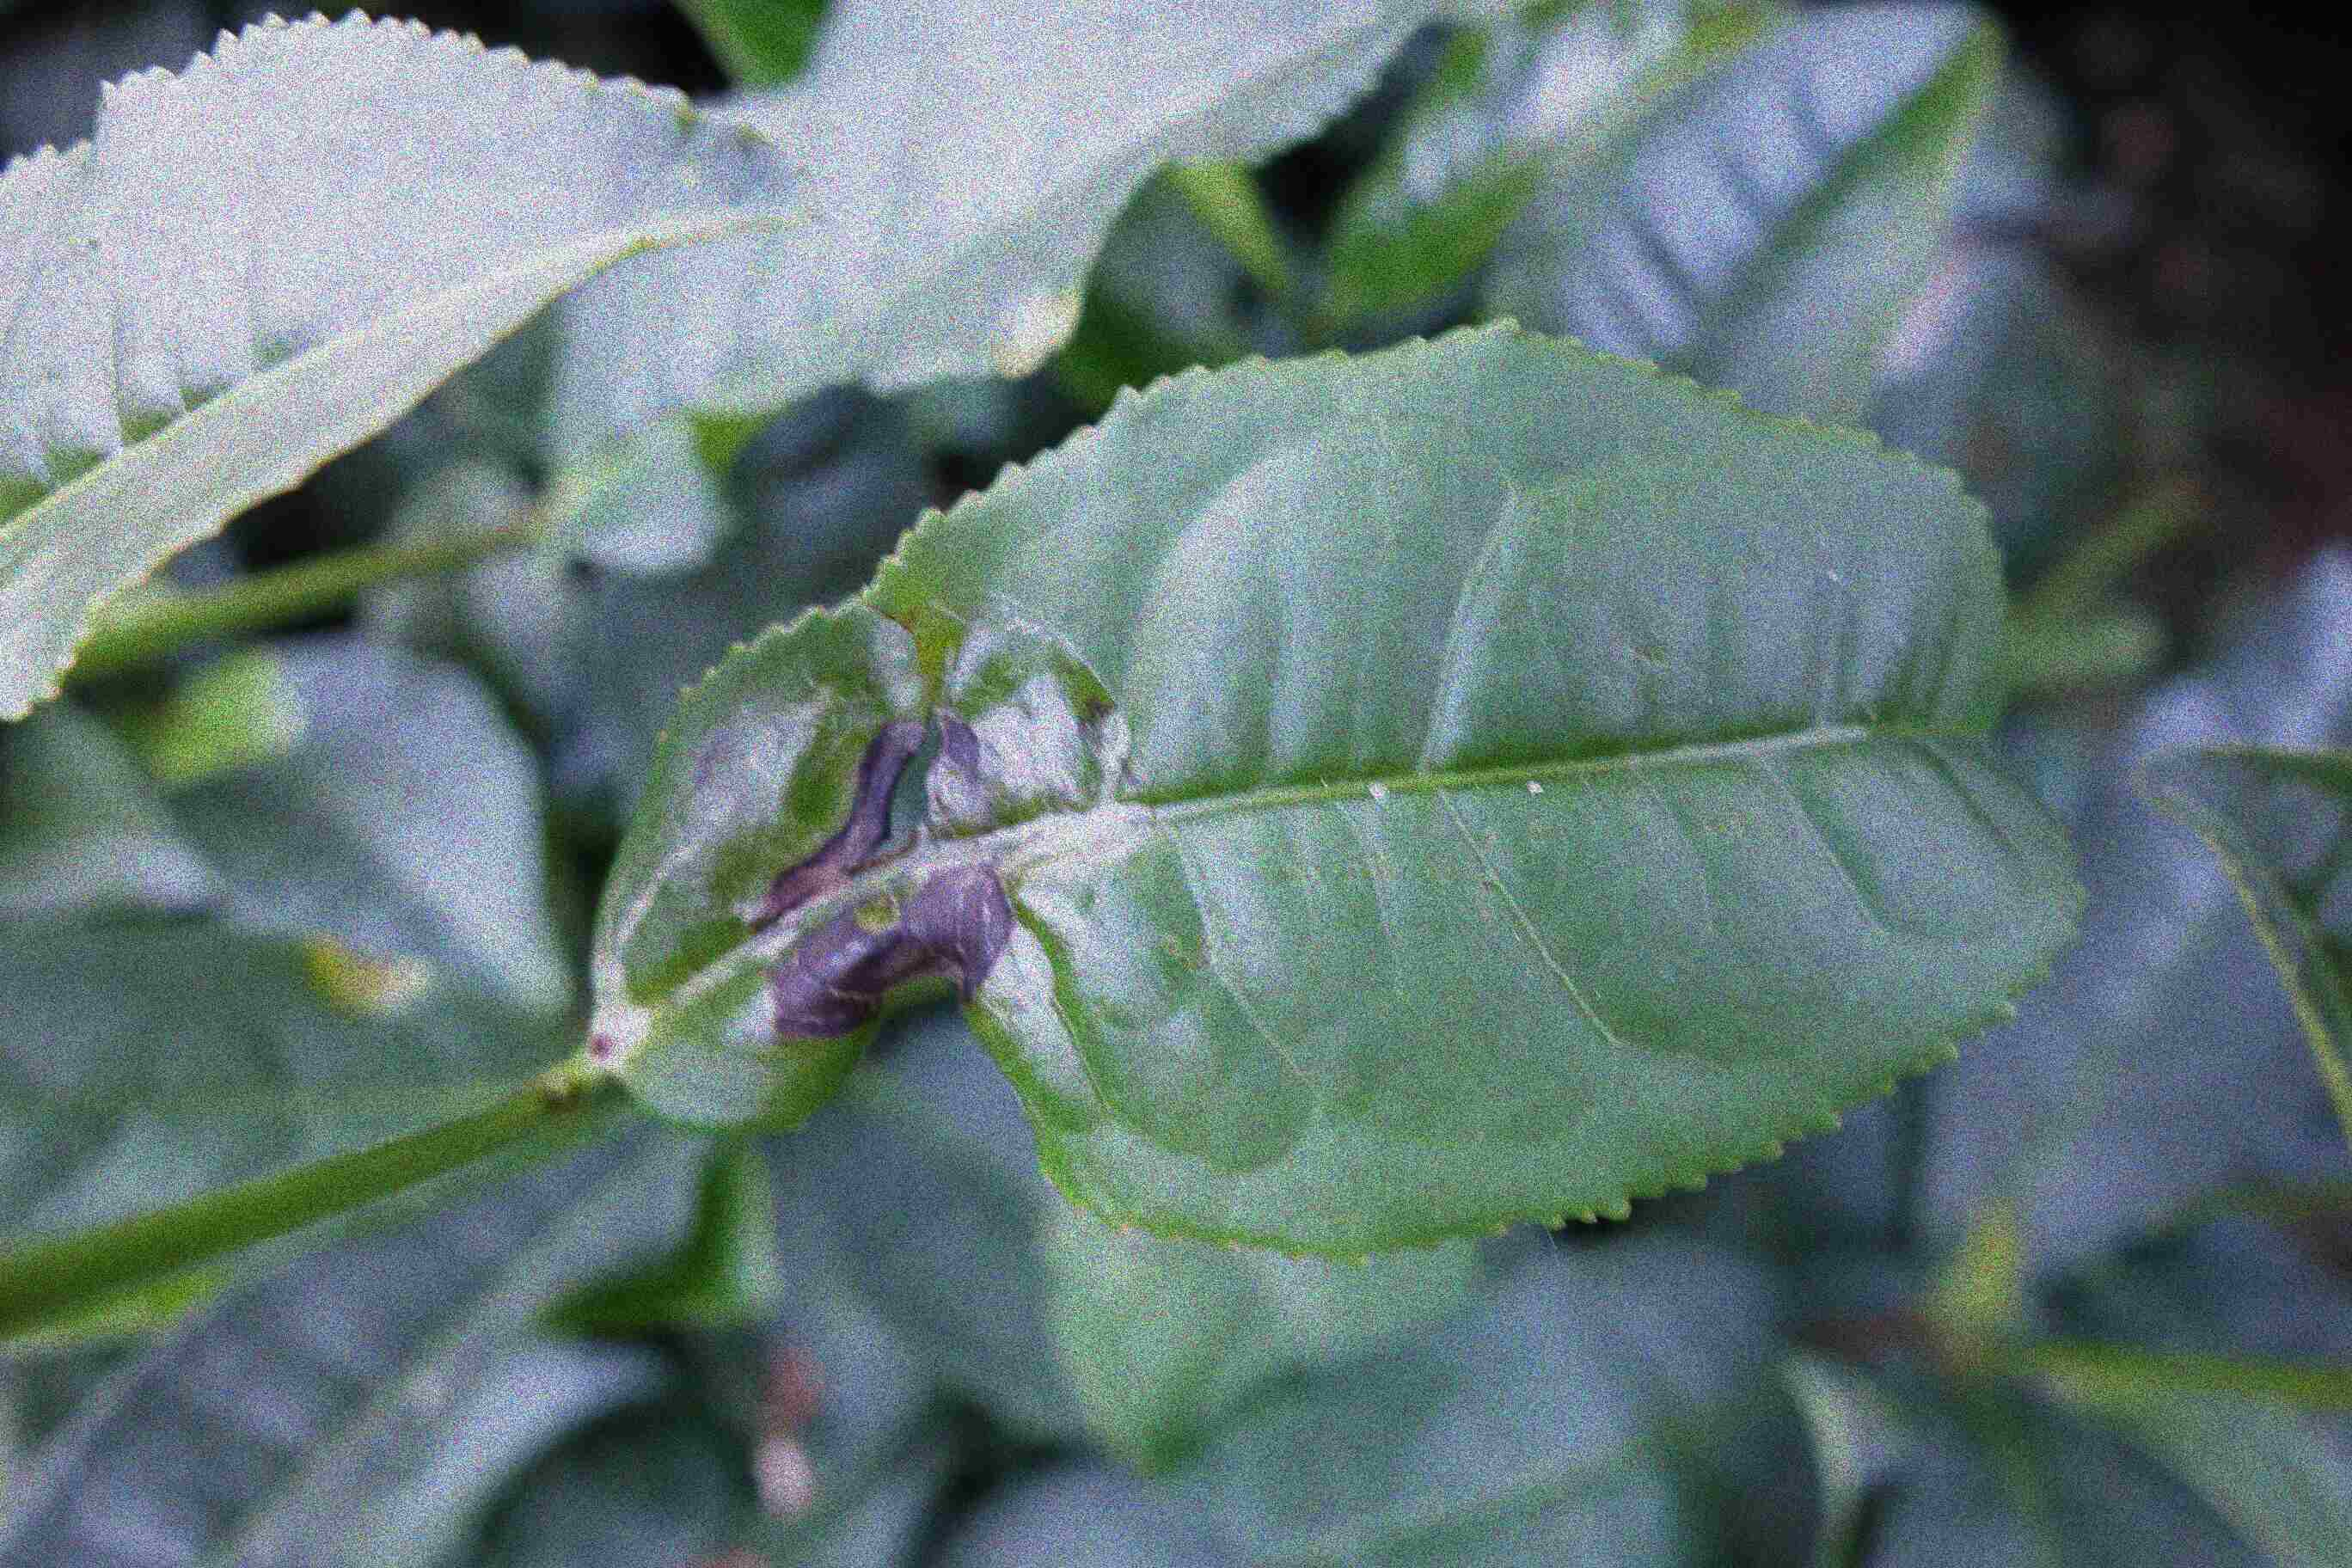tanju_high: (581, 317, 2091, 1270)
